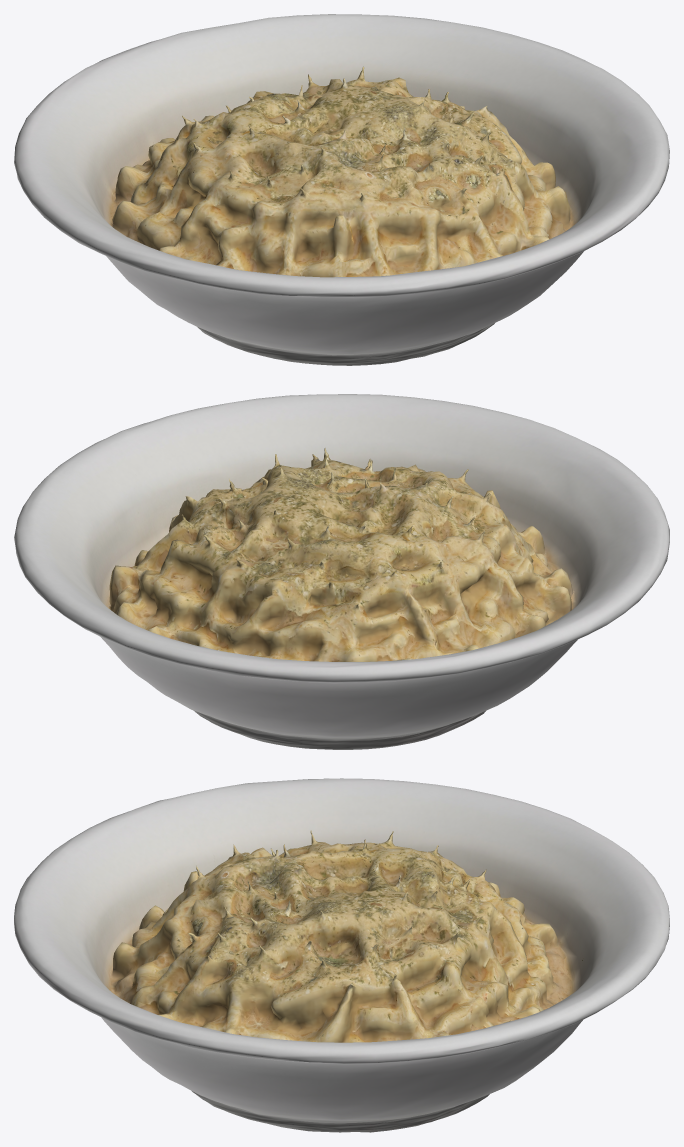
The model's file is abb_fettuccini_alfredo.fbx.
3 views of the same model, one above another, from view 1: azimuth 30°, elevation 25°; view 2: azimuth 150°, elevation 25°; view 3: azimuth 270°, elevation 25° (orthographic).
Visible parts, largest first — view 1: meshes[0]; view 2: meshes[0]; view 3: meshes[0].
Boxes of the visible parts, bbox=[...] form: meshes[0]: bbox=[14, 14, 669, 365]; meshes[0]: bbox=[14, 394, 669, 749]; meshes[0]: bbox=[14, 778, 669, 1132].
Size of the model in its own units: 99.8 by 33.01 by 99.8.
1 material, 1 textured.
